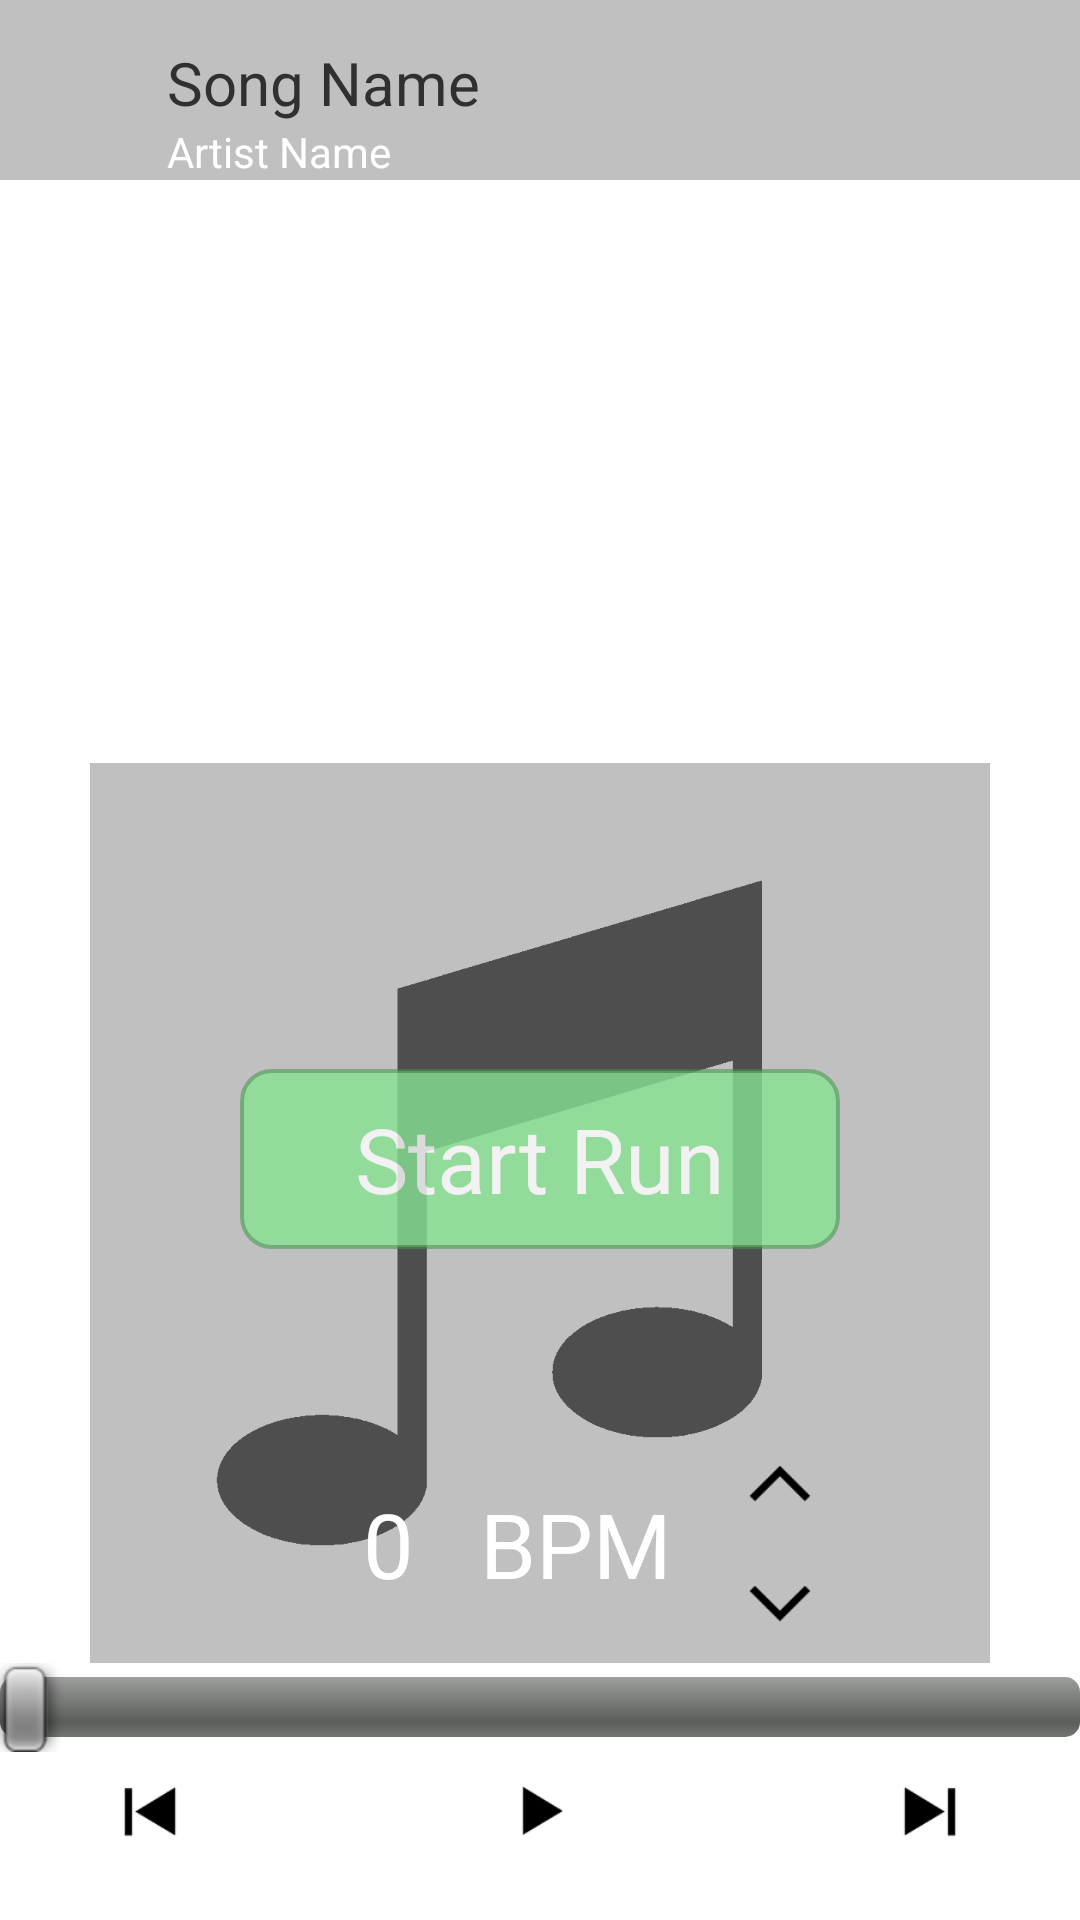

Where icons sit on this 1080px x 1920px app screen, as (x1, y1, x2, y2):
back: (124, 1787, 176, 1836)
